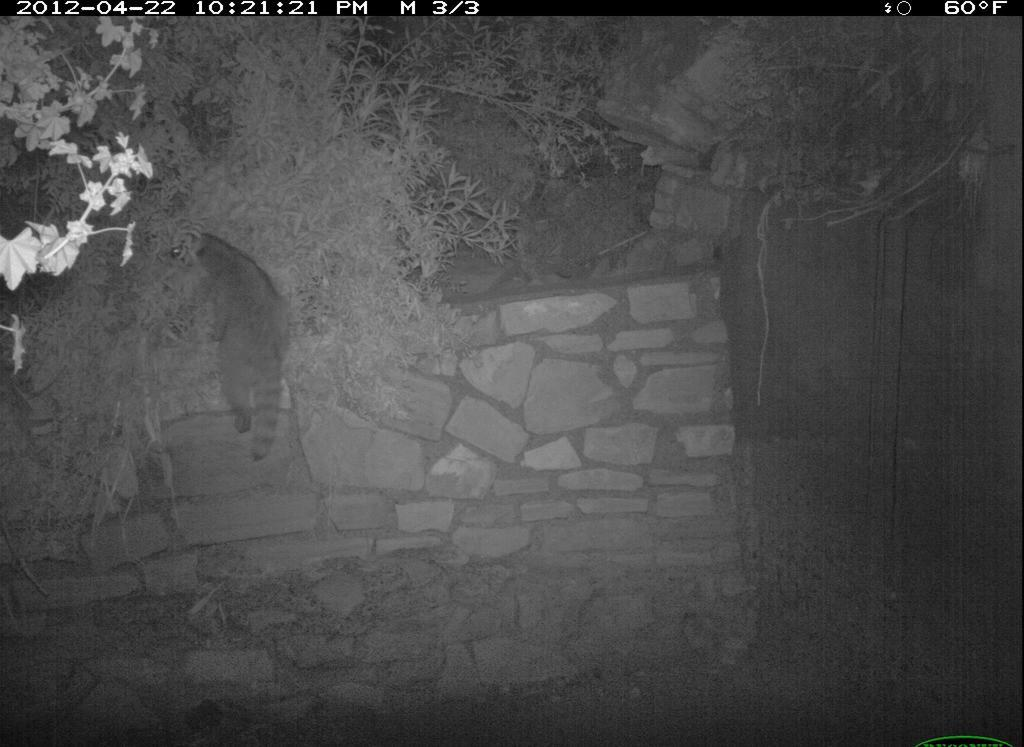raccoon: (157, 227, 305, 469)
